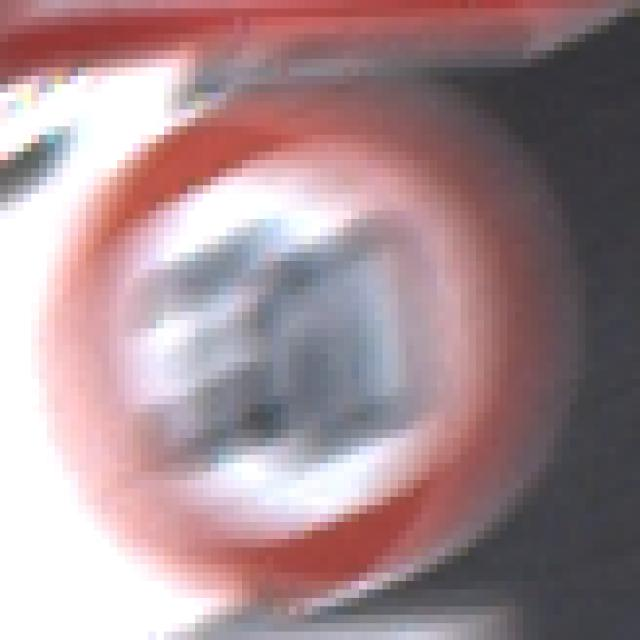Speed Limit -30-: (51, 55, 581, 585)
